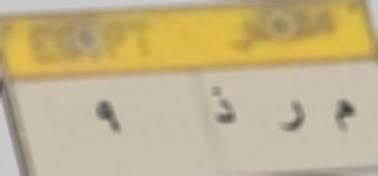9: (86, 96, 132, 144)
meem: (324, 93, 360, 139)
raa: (277, 100, 311, 139)
zaal: (205, 82, 242, 130)
